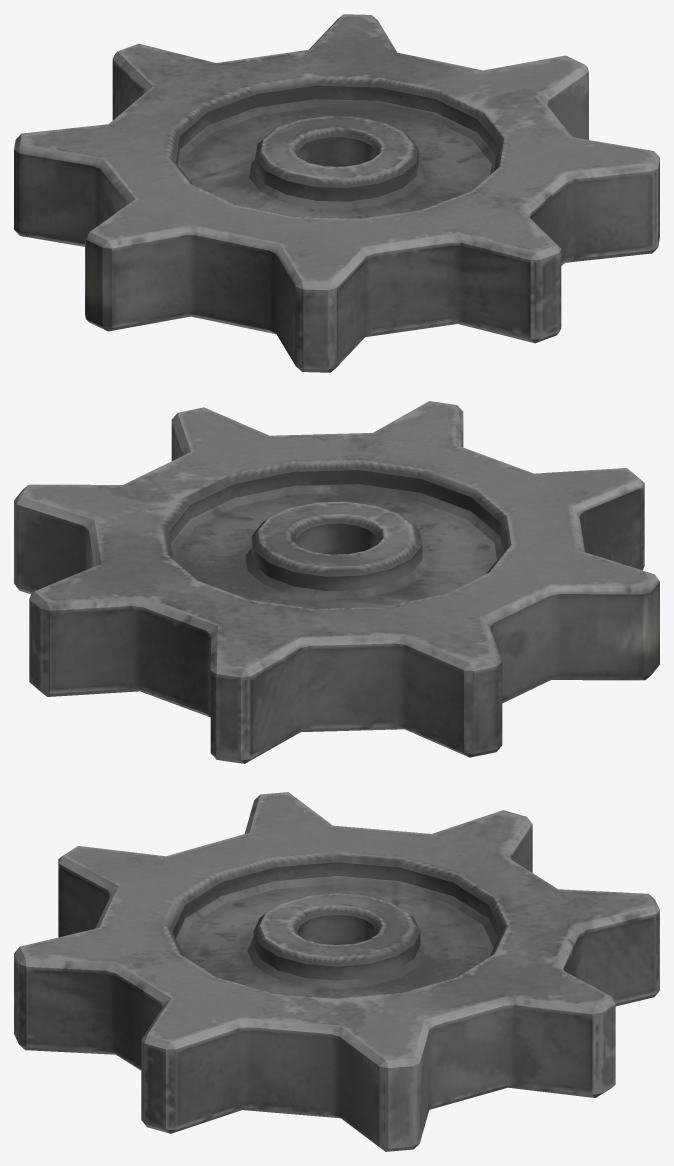
File: Cogwheel.fbx
3 views of the same model, one above another, from view 1: azimuth 30°, elevation 25°; view 2: azimuth 150°, elevation 25°; view 3: azimuth 270°, elevation 25° (orthographic). The views are drawn at different scales.
Parts seen in each view (by area): view 1: Cogwheel.015; view 2: Cogwheel.015; view 3: Cogwheel.015.
Part boxes in pixels (box(x1,y1,x2,y2)): Cogwheel.015: box(14, 14, 659, 372); Cogwheel.015: box(14, 401, 659, 763); Cogwheel.015: box(14, 792, 659, 1151).
Bounding box in the file's own units: 21 × 3.3 × 21.
Materials: 1 (1 with a texture image).
